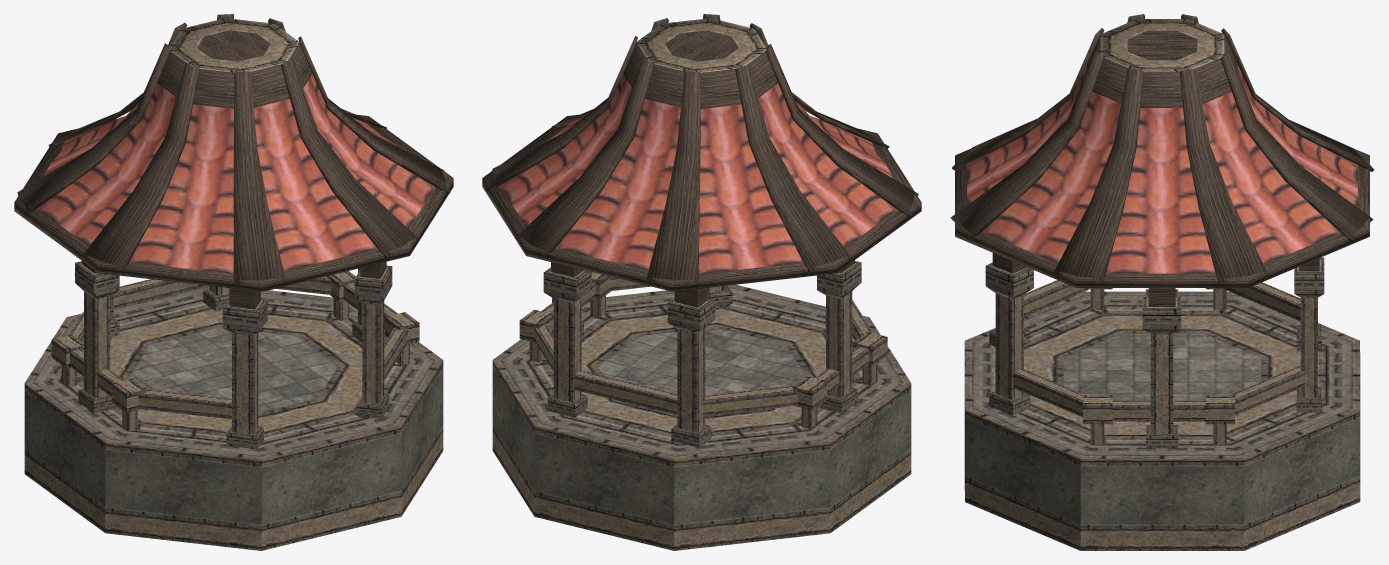
The model's file is kioskijp.fbx.
3 views of the same model, side by side, from view 1: azimuth 30°, elevation 25°; view 2: azimuth 150°, elevation 25°; view 3: azimuth 270°, elevation 25° (orthographic).
Parts seen in each view (by area): view 1: Cube.005; view 2: Cube.005; view 3: Cube.005.
Part boxes in pixels (x1,y1,x2,y2): Cube.005: (14, 14, 453, 550); Cube.005: (482, 14, 921, 550); Cube.005: (950, 14, 1374, 550).
Size of the model in its own units: 5.23 by 5.79 by 5.23.
